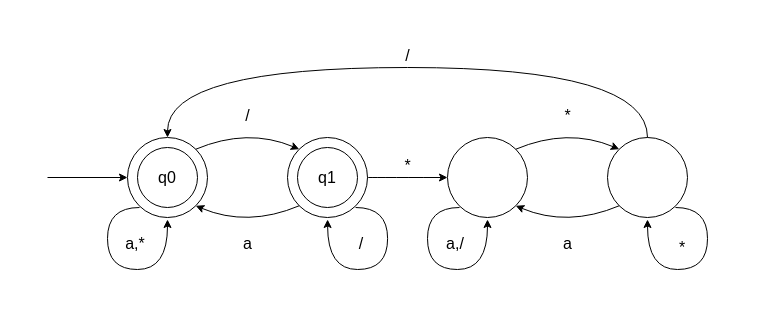
Image size: 765x325. Some labels were removed from this diagram. The shapes that lost their labels are listed below. From the top down, each one's box as (x1, y1, x2, y2) in pixels, then its label:
(446, 136, 528, 218): q2
(606, 136, 688, 218): q3
